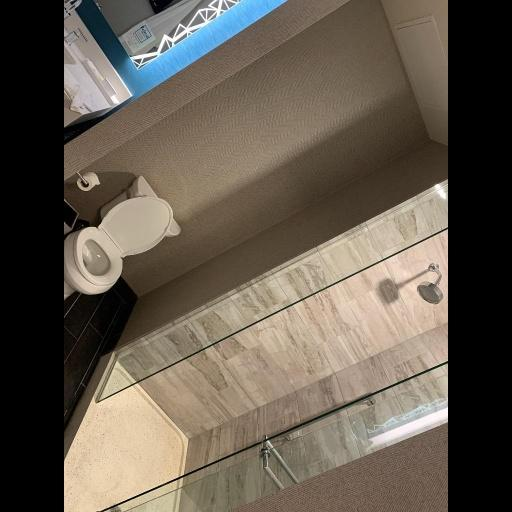clean shower: (63, 180, 447, 511)
clean_toilet: (60, 178, 189, 294)
